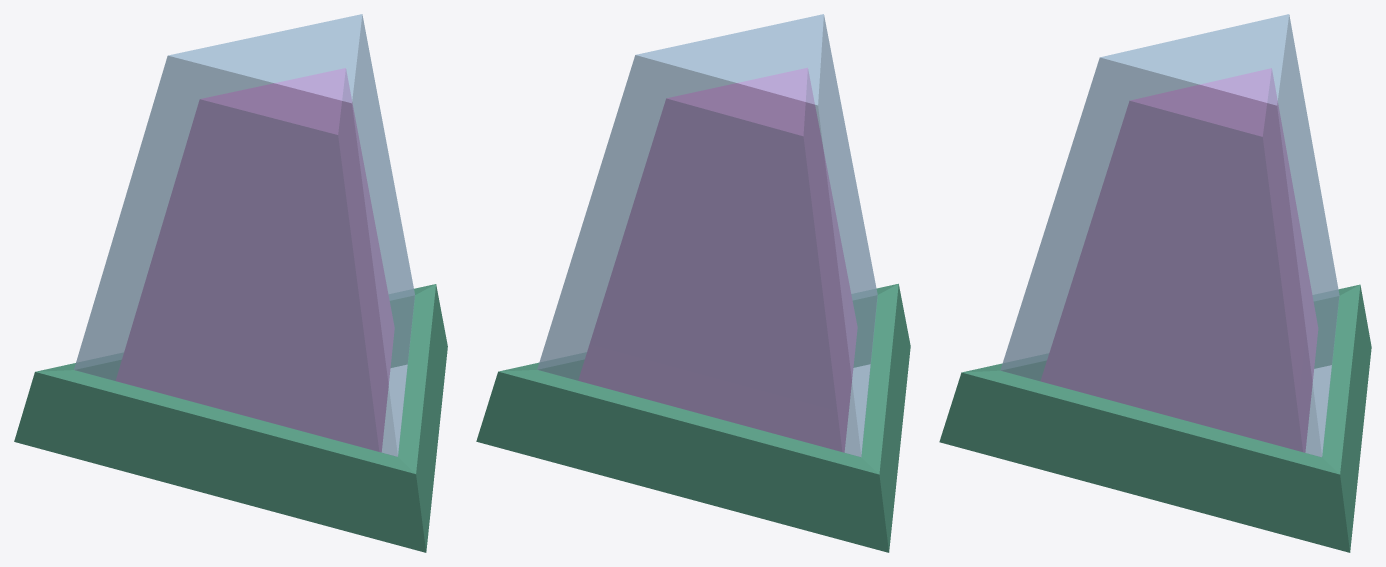
Rendered from stand.fbx.
The picture shows the model from 3 angles, left to right: view 1: azimuth 30°, elevation 25°; view 2: azimuth 150°, elevation 25°; view 3: azimuth 270°, elevation 25°; orthographic projection.
Parts seen in each view (by area): view 1: stand; view 2: stand; view 3: stand.
Part boxes in pixels (box(x1,y1,x2,y2)): stand: box(14, 14, 447, 552); stand: box(476, 14, 910, 552); stand: box(939, 14, 1371, 552).
Size of the model in its own units: 389 by 342 by 346.
